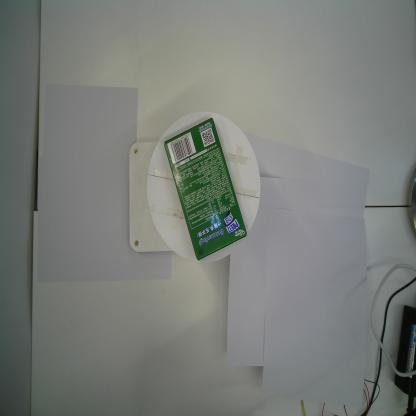Dessert: (164, 116, 247, 261)
